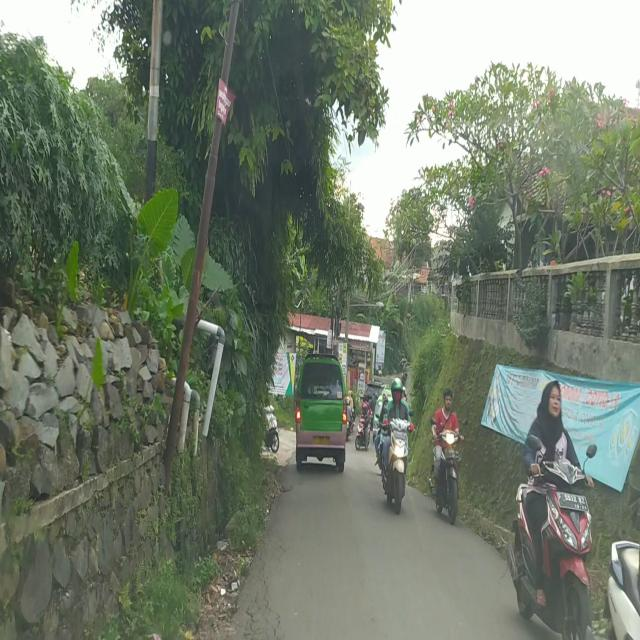Drain Hole: (239, 548, 289, 640)
